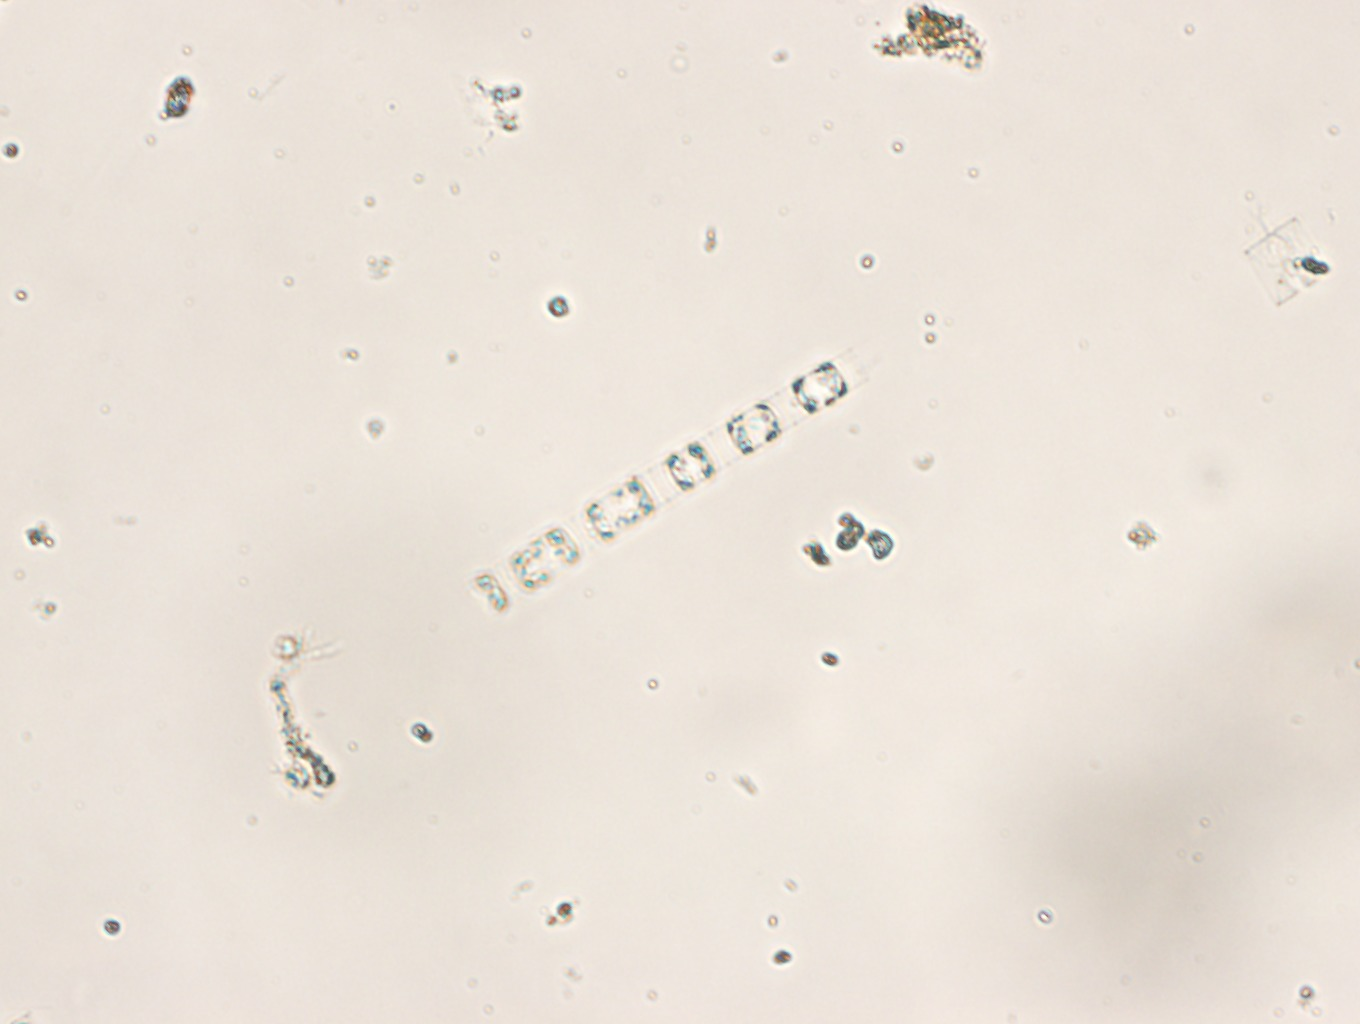skeletonema: (468, 349, 867, 616)
